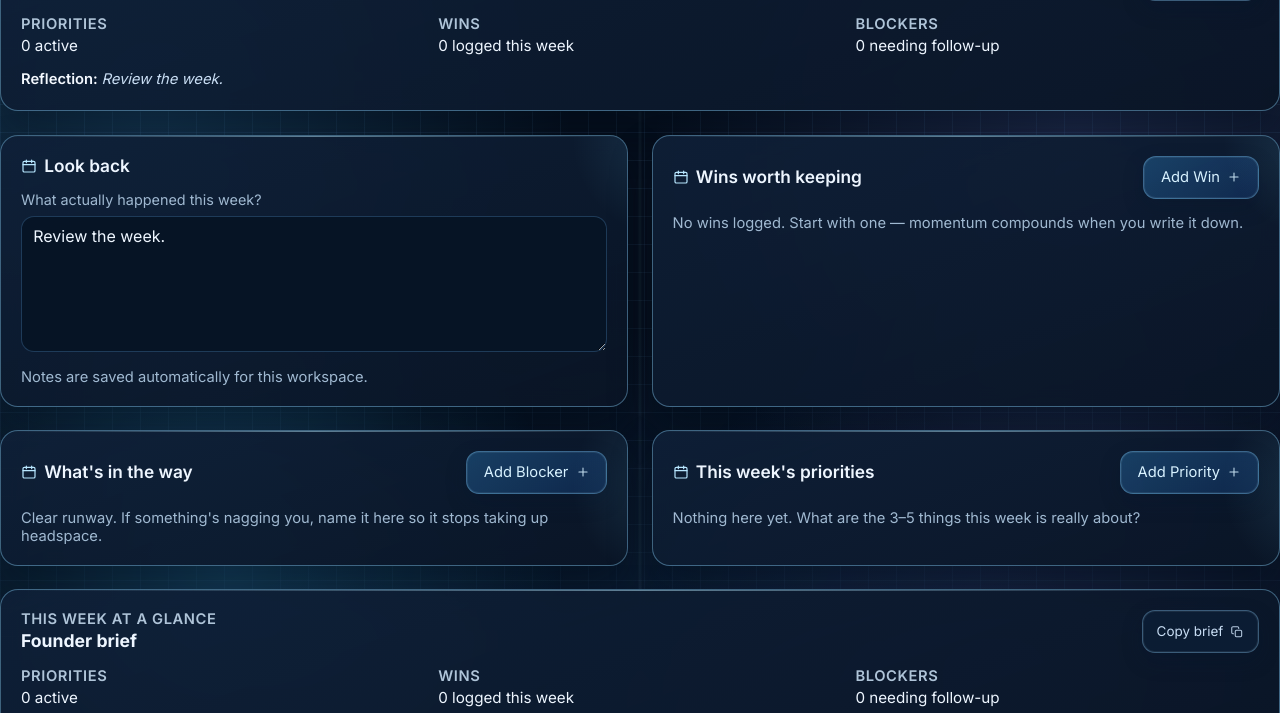
Scenario: src/pages/WeeklyBrief › connects saved priorities and blockers back to Focus Home recommendations
The image size is (1280, 713).
(page scrolled)
Click the button with aria-label "Add weekly priority" at (1189, 472), box [1120,451,1259,494]
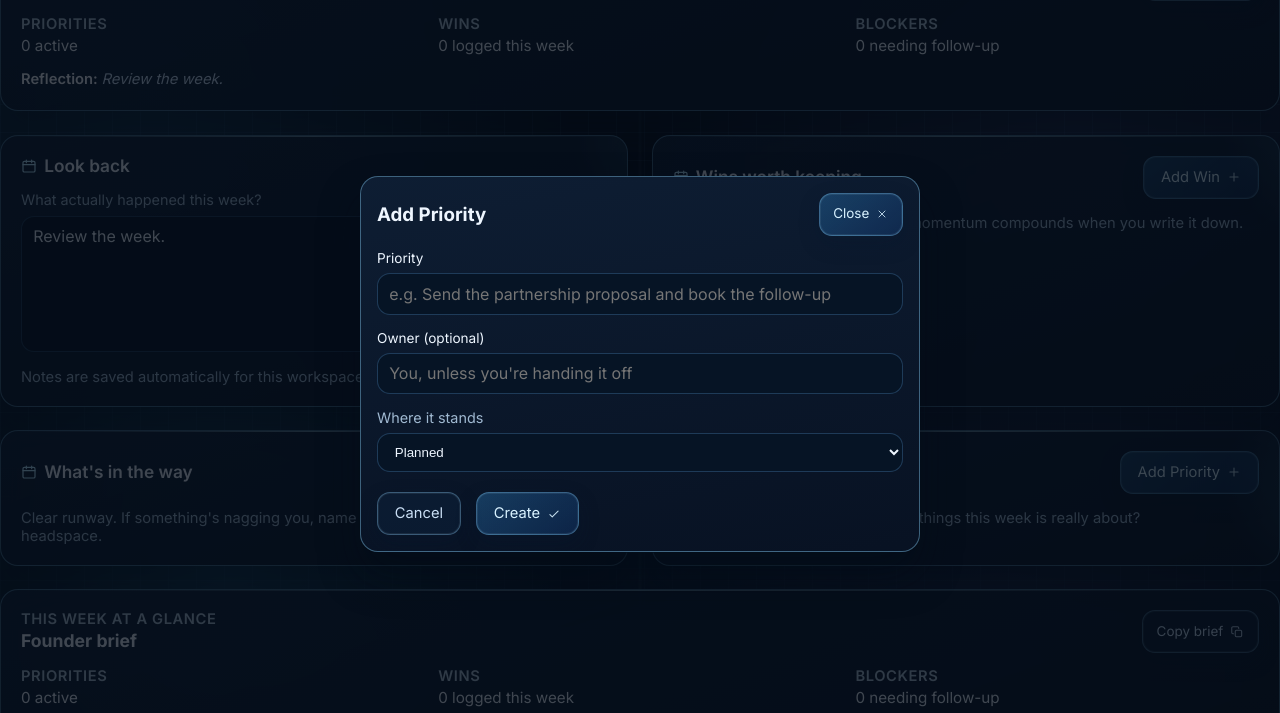
Type "Confirm scholarship partner" into the field labelled "Priority" at (640, 294), box [377,273,903,315]
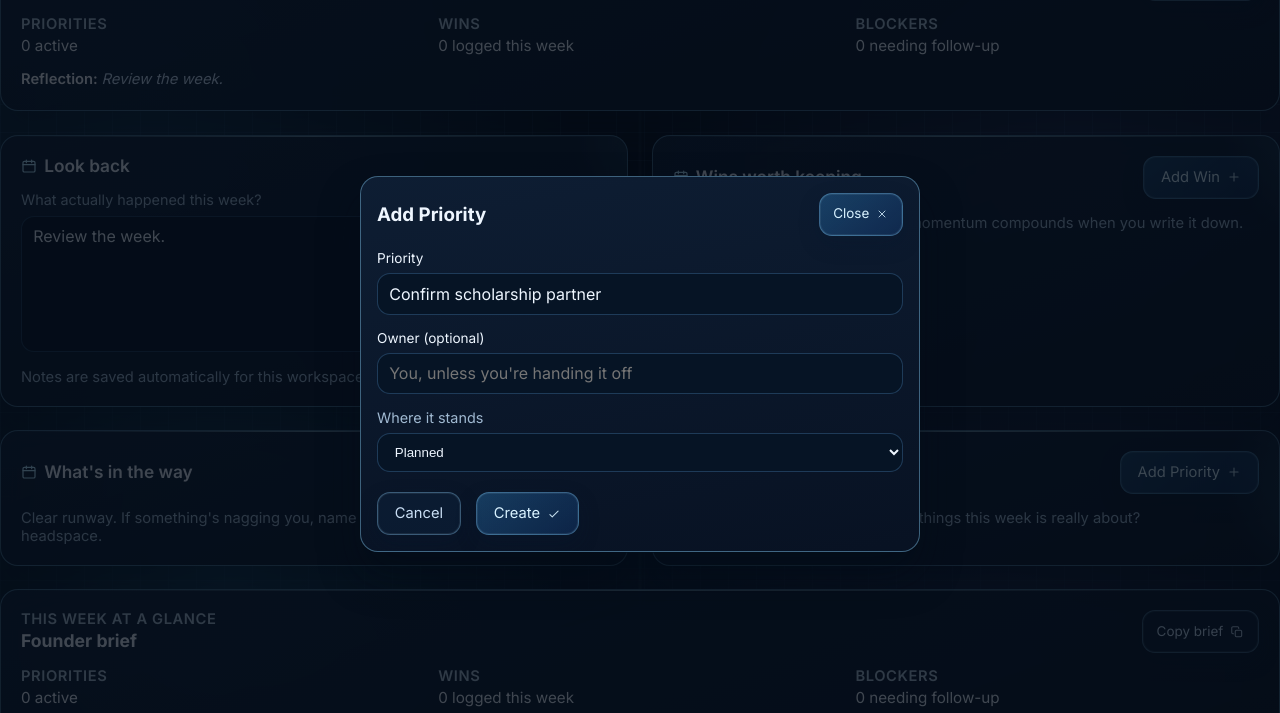
Click the button "Create" at (527, 514), box [476,492,579,535]
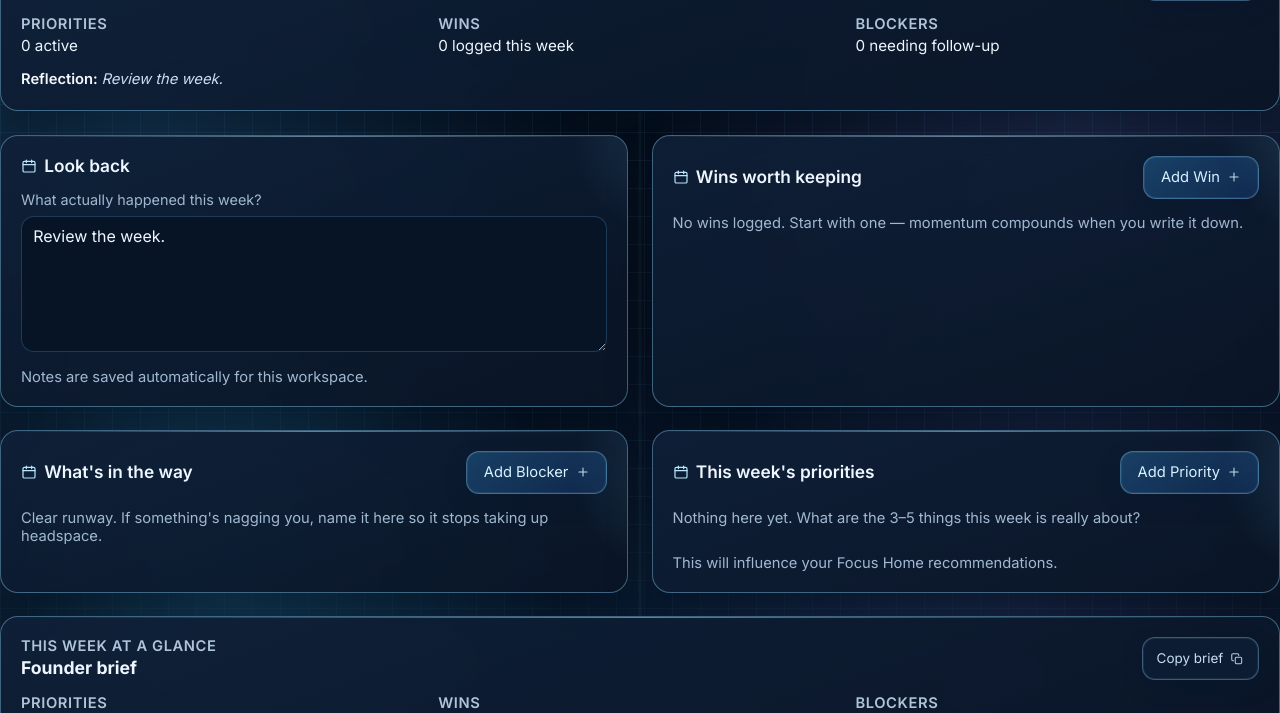
Click the button with aria-label "Add weekly blocker" at (537, 472), box [466,451,607,494]
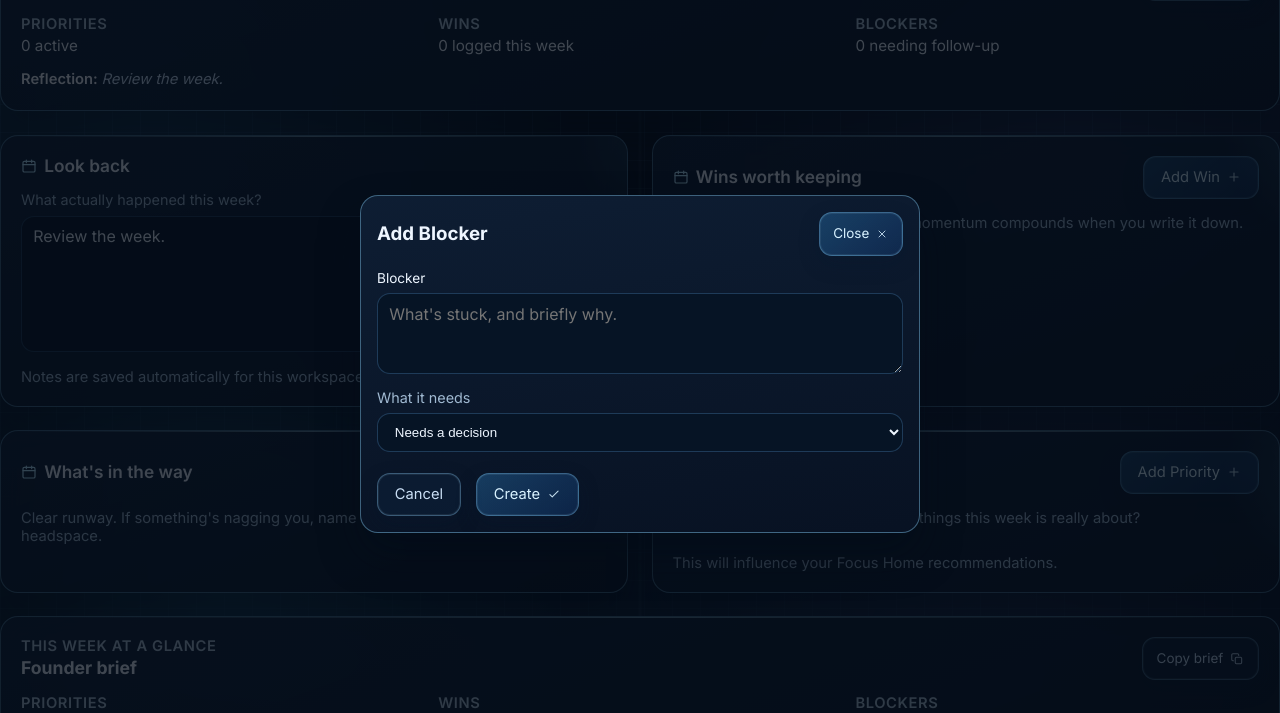
Type "Waiting on curriculum review" into the text box labelled "Blocker" at (640, 334), box [377,293,903,374]
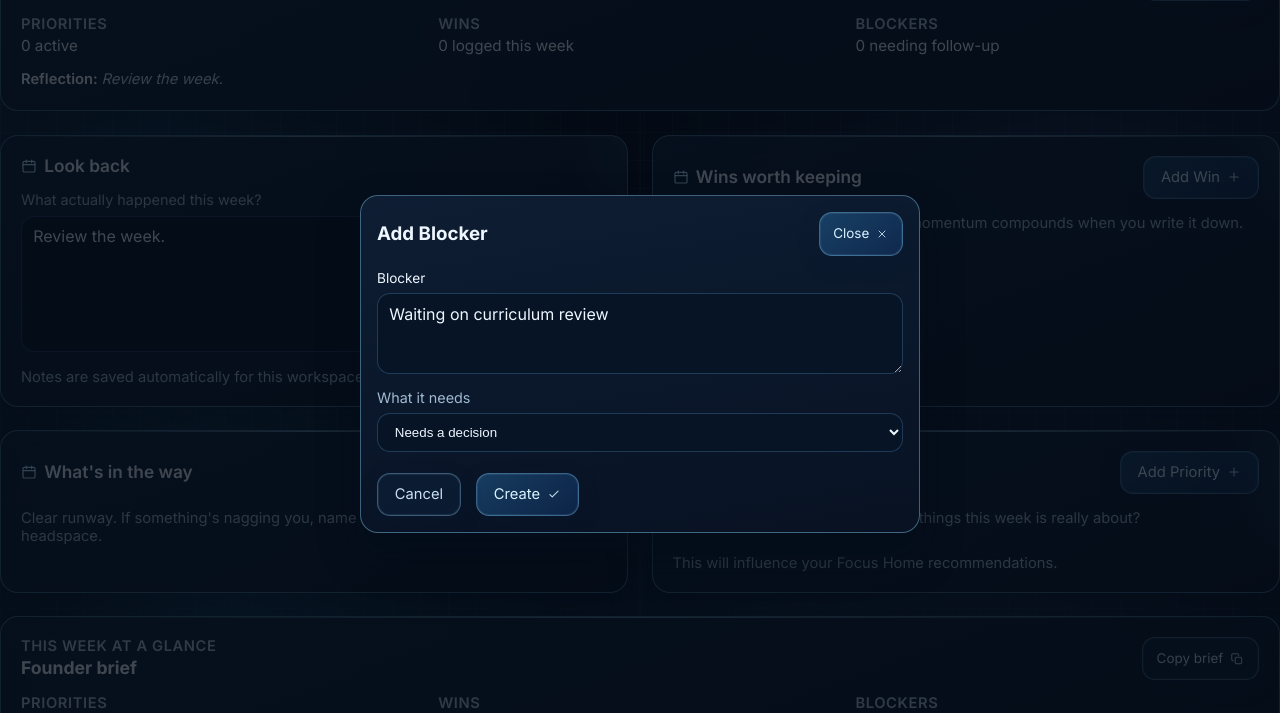
Click the button "Create" at (527, 494), box [476,472,579,516]
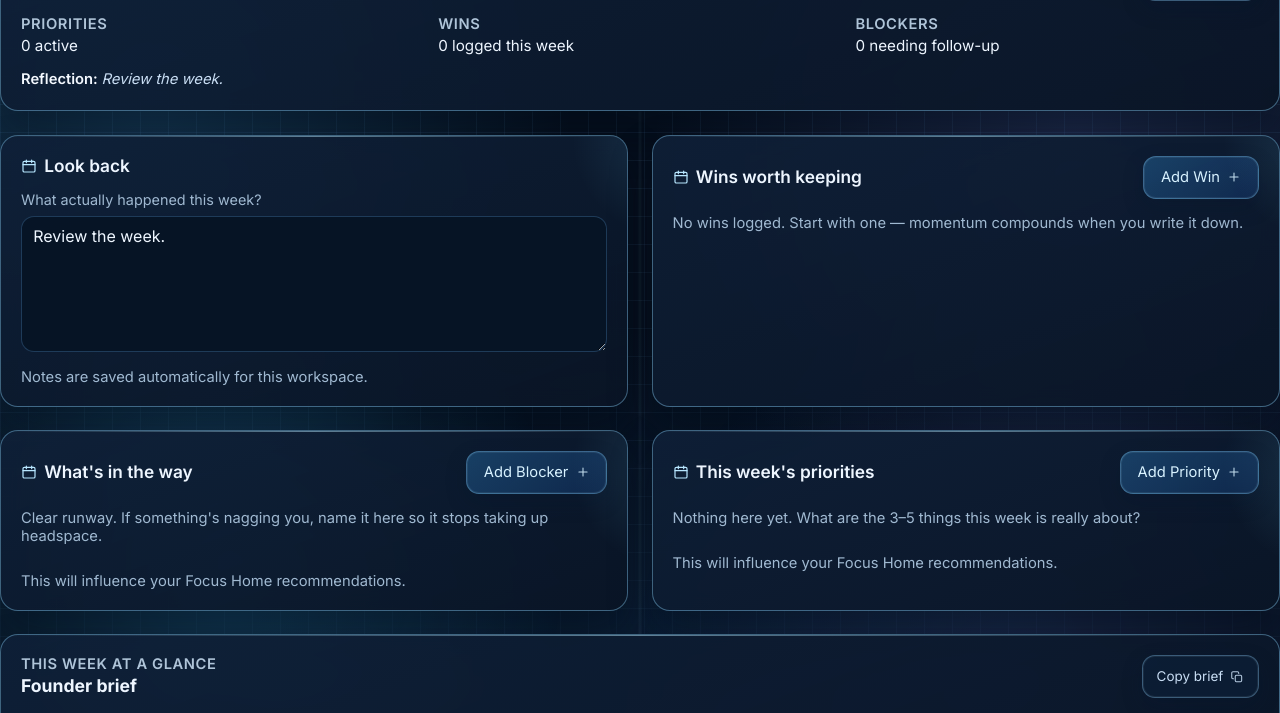
expect the text "This will influence your Focus Home recommendations." is shown 2 times: met, box [21,572,406,590]; [673,554,1057,572]
